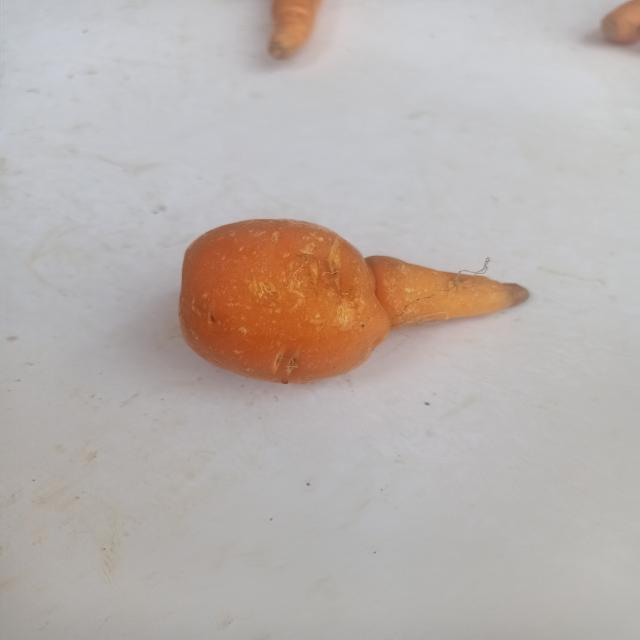Carrot: (158, 205, 543, 407)
